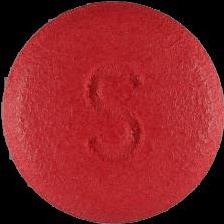61786-336: (0, 0, 224, 224)
